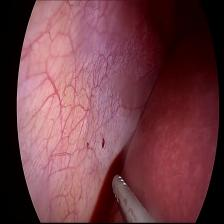Irrigator: (108, 166, 135, 214)
